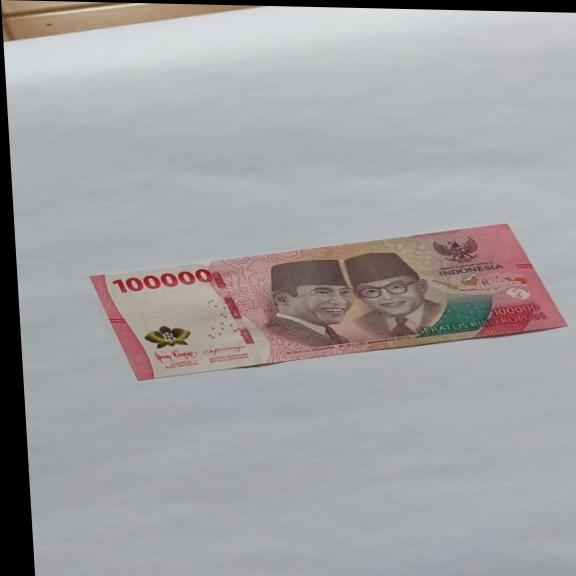Kertas: (86, 213, 573, 392)
